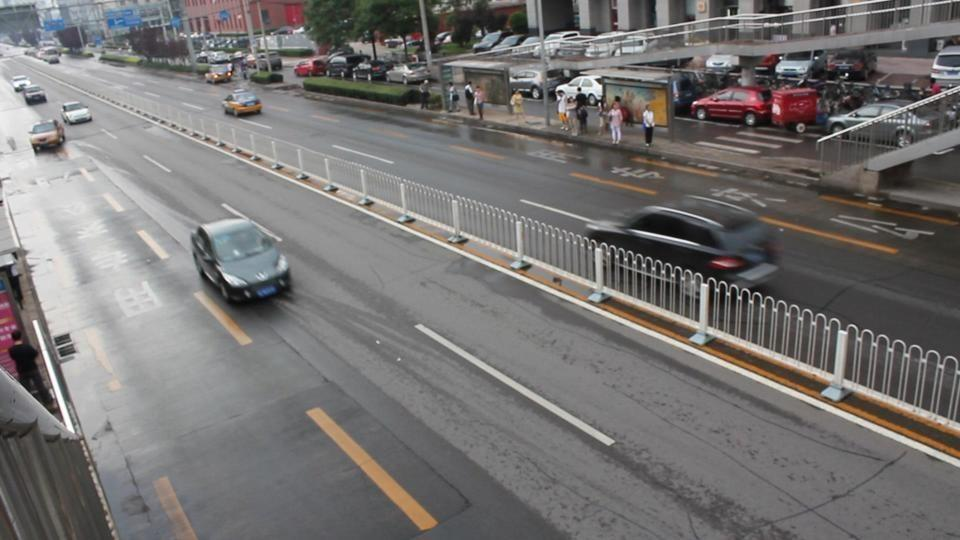car: (592, 200, 785, 293), (189, 216, 292, 305), (691, 86, 774, 126), (824, 101, 910, 138), (773, 48, 827, 86), (810, 49, 870, 82), (555, 76, 604, 104), (27, 119, 66, 153), (930, 45, 960, 87), (471, 31, 525, 53), (384, 62, 431, 85), (223, 90, 263, 117), (61, 101, 93, 126), (204, 65, 233, 84), (22, 86, 47, 105), (10, 74, 30, 92)
